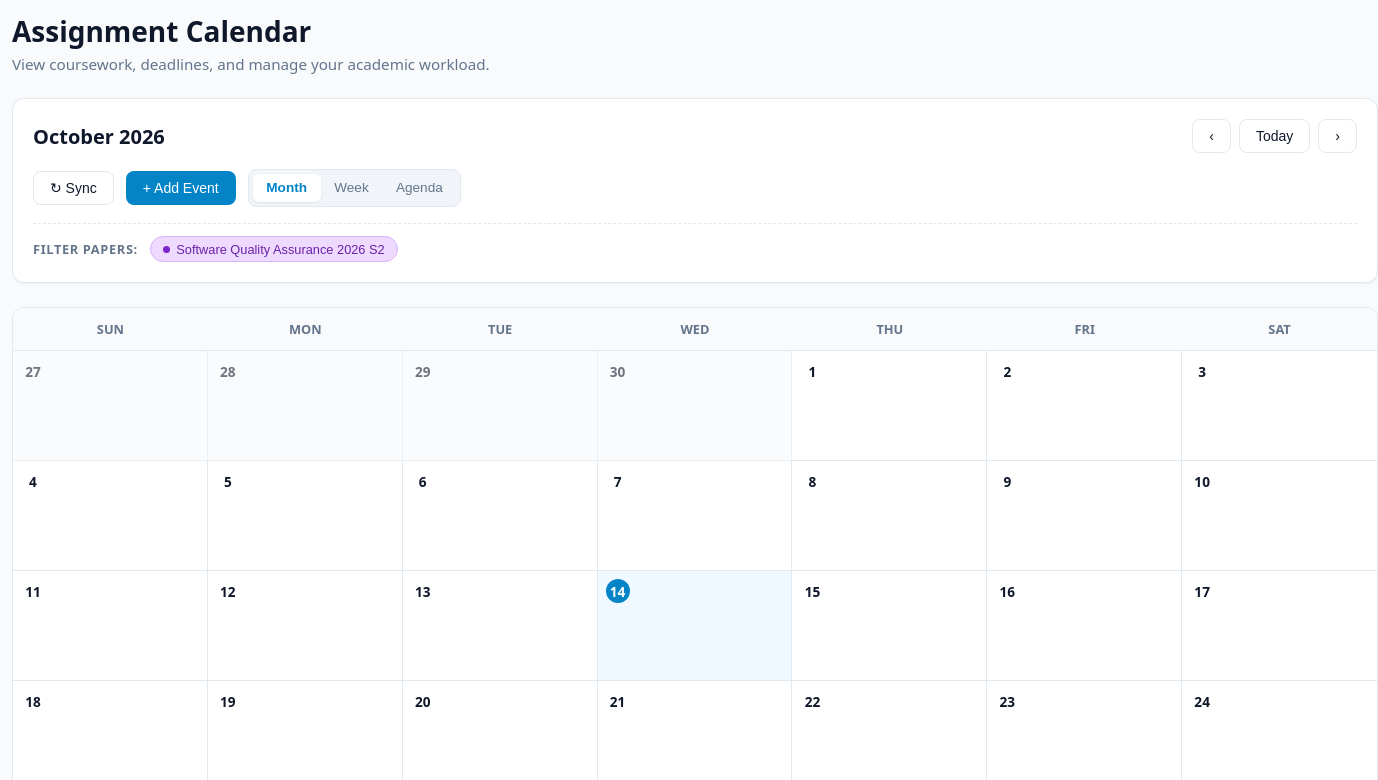
Test: Calendar sync - Canvas integration (FR-02) › TC-04: re-fetches Canvas events and assignments when Sync is clicked
Click the button "Agenda": [419, 188] box left=382, top=174, right=456, bottom=202
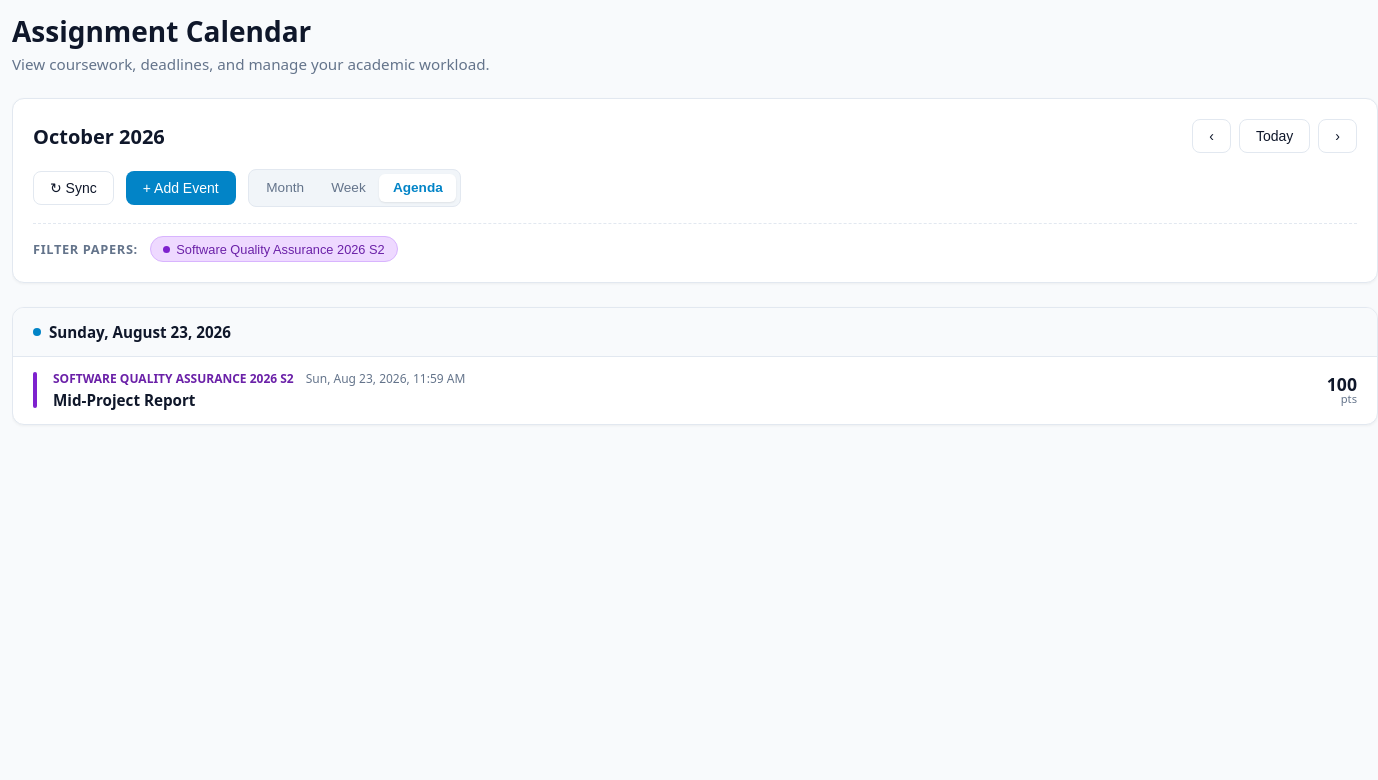
Expected: the text "New Canvas Deadline" is not shown
Click the button "↻ Sync": [73, 188] box left=33, top=171, right=114, bottom=205
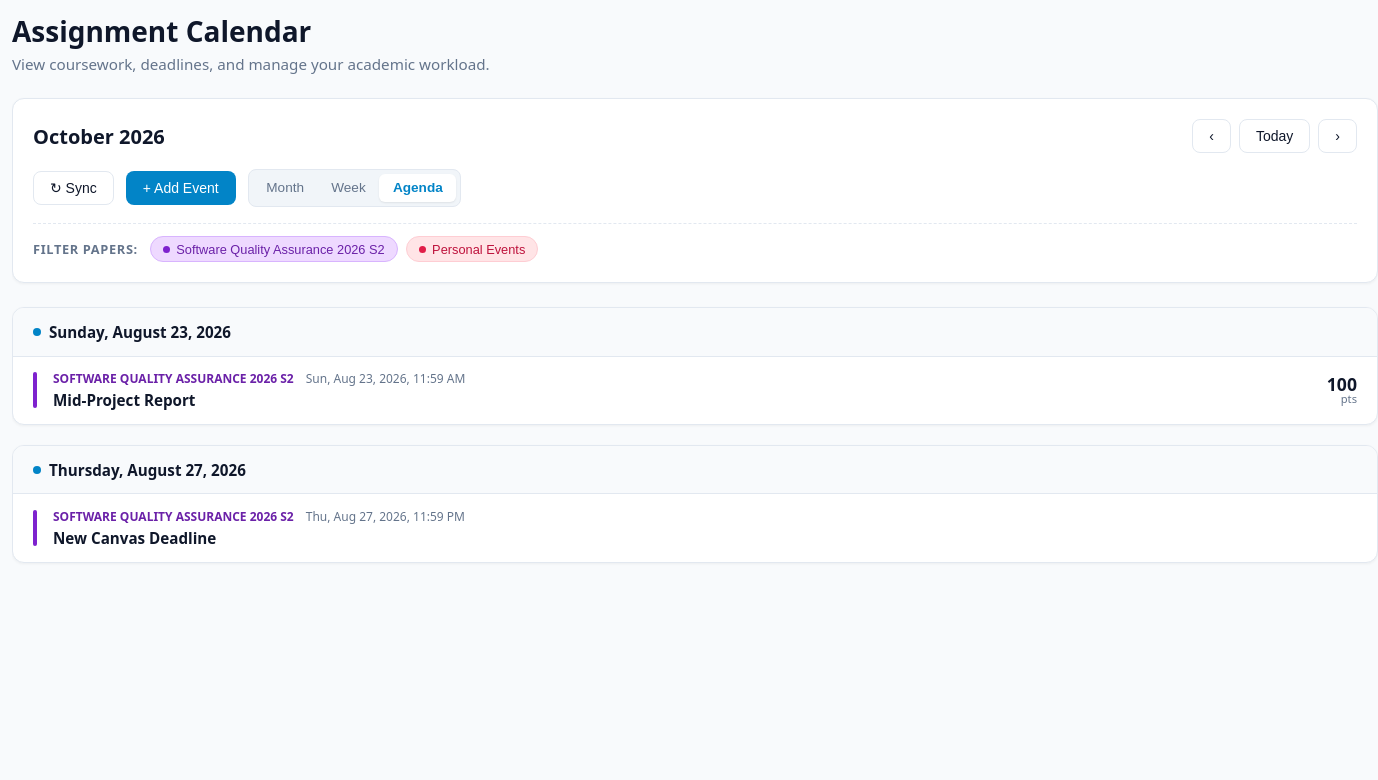
Now the heading "New Canvas Deadline" is shown, box left=53, top=528, right=216, bottom=548
